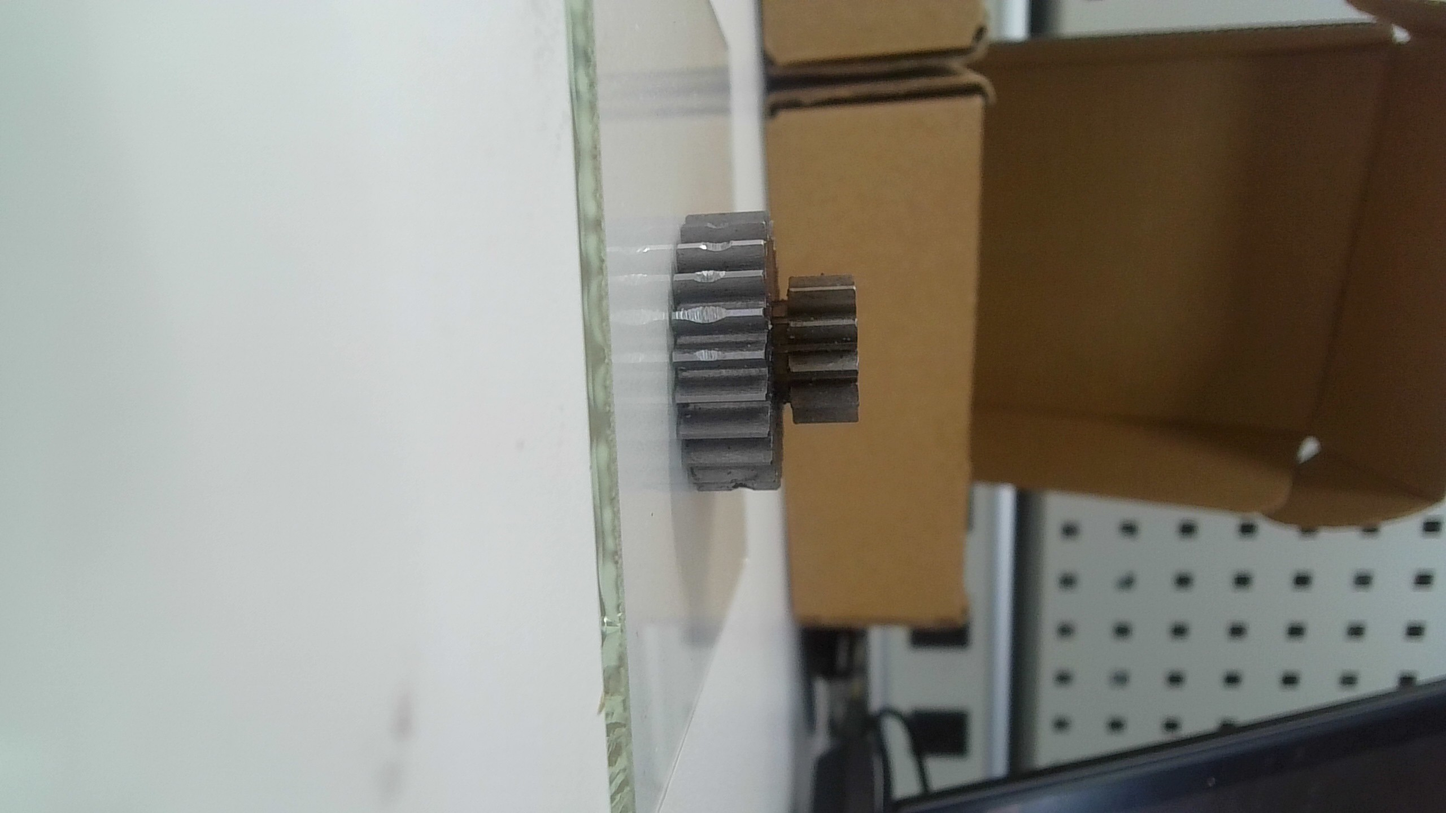gear: (668, 202, 871, 497)
